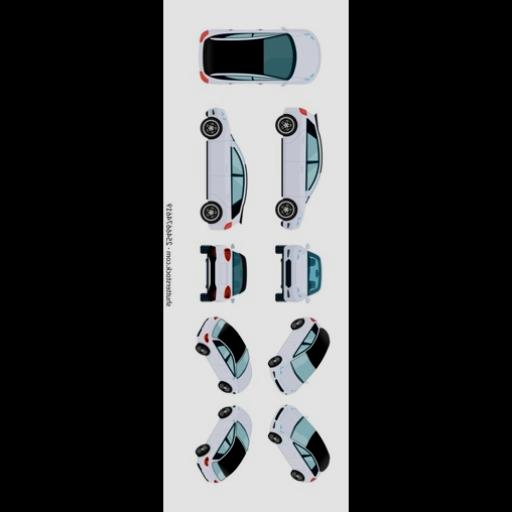hatchback: (201, 30, 319, 84), (275, 108, 323, 229), (201, 110, 246, 230), (268, 317, 330, 394), (268, 407, 330, 481), (195, 407, 249, 484), (197, 317, 249, 394), (275, 246, 319, 303), (201, 246, 246, 301)
